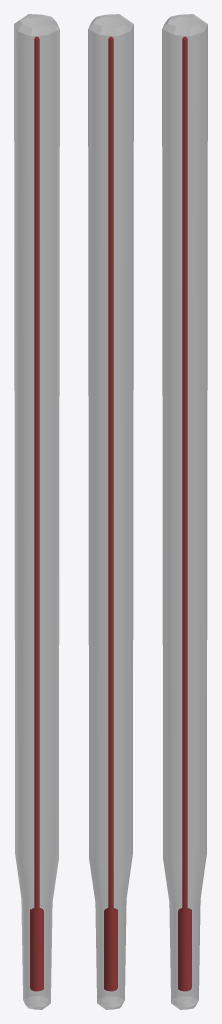
Rendered from thermometer.fbx.
3 renders of one model, left to right at view 1: azimuth 30°, elevation 25°; view 2: azimuth 150°, elevation 25°; view 3: azimuth 330°, elevation 25°, orthographic.
Parts seen in each view (by area): view 1: polySurface3, polySurface4; view 2: polySurface3, polySurface4; view 3: polySurface3, polySurface4.
Boxes of the visible parts, x1=… form: polySurface3: x1=14, y1=14, x2=59, y2=1009; polySurface4: x1=30, y1=36, x2=43, y2=991; polySurface3: x1=88, y1=14, x2=133, y2=1009; polySurface4: x1=104, y1=36, x2=117, y2=991; polySurface3: x1=162, y1=14, x2=207, y2=1009; polySurface4: x1=178, y1=36, x2=191, y2=991.
Size of the model in its own units: 0.7053 by 17.1 by 0.7053.
